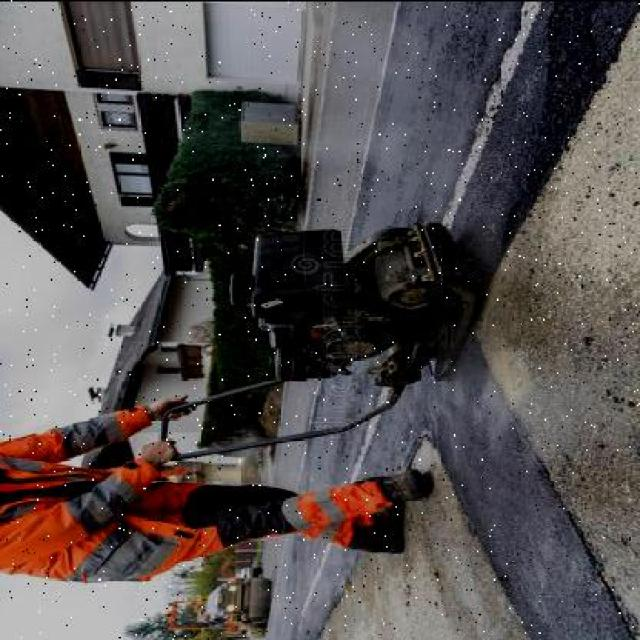shoes: (363, 500, 414, 552), (378, 465, 432, 501)
